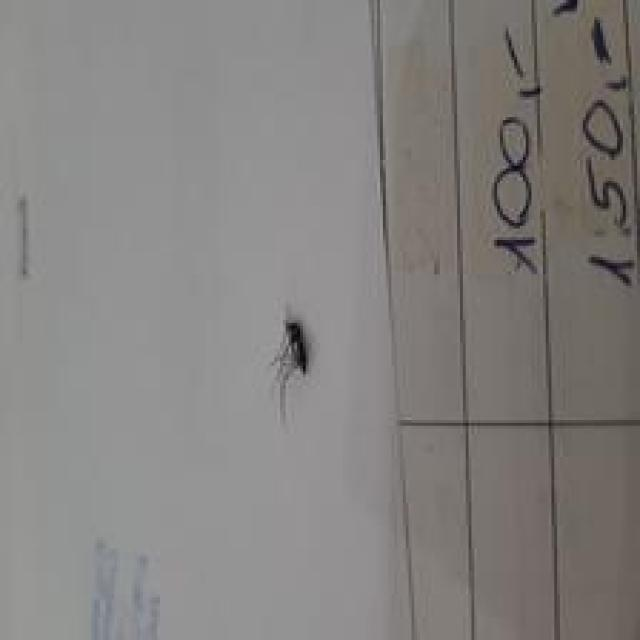Aedes albopictus: (268, 319, 308, 424)
